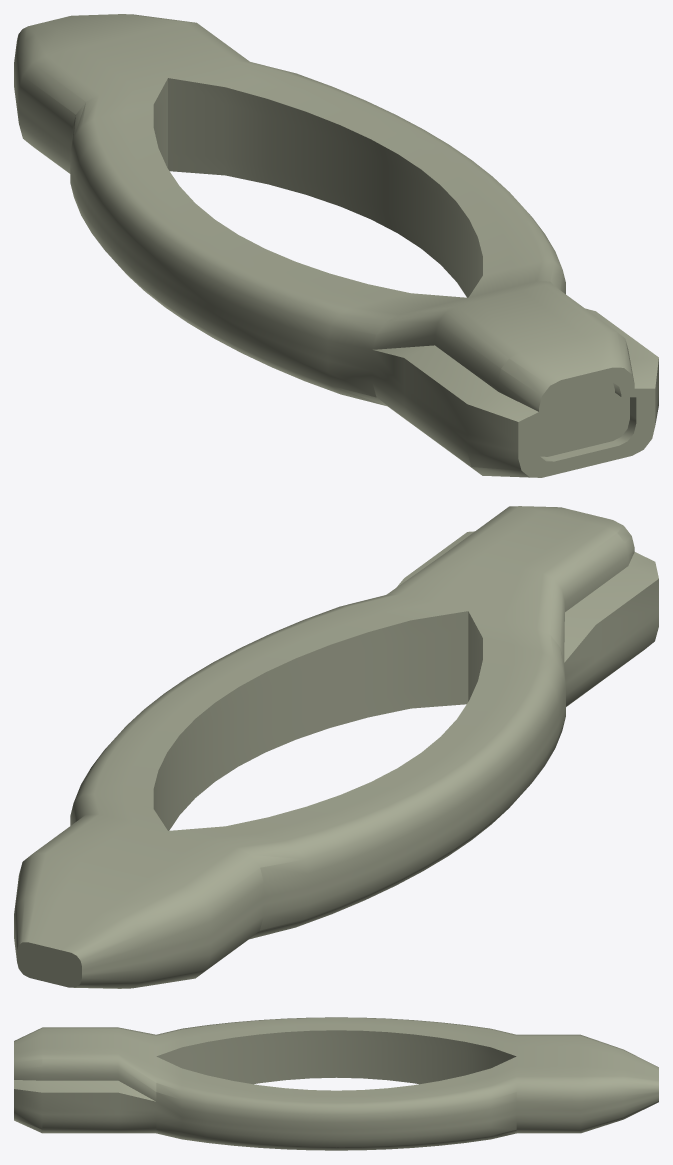
Rendered from kelvane_destroyer.glb.
3 renders of one model, top to bottom at view 1: azimuth 30°, elevation 25°; view 2: azimuth 150°, elevation 25°; view 3: azimuth 270°, elevation 25°, orthographic. The views are drawn at different scales.
Visible parts, largest first — view 1: hull; view 2: hull; view 3: hull.
Boxes of the visible parts, x1,y1,x2,y2 form: hull: [14, 14, 658, 477]; hull: [14, 506, 658, 988]; hull: [14, 1017, 658, 1150].
Size of the model in its own units: 47.45 by 16.5 by 136.
